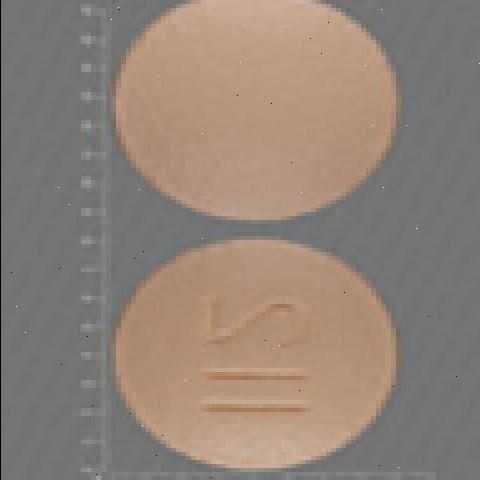Pill: (88, 0, 411, 235), (110, 229, 408, 472)
